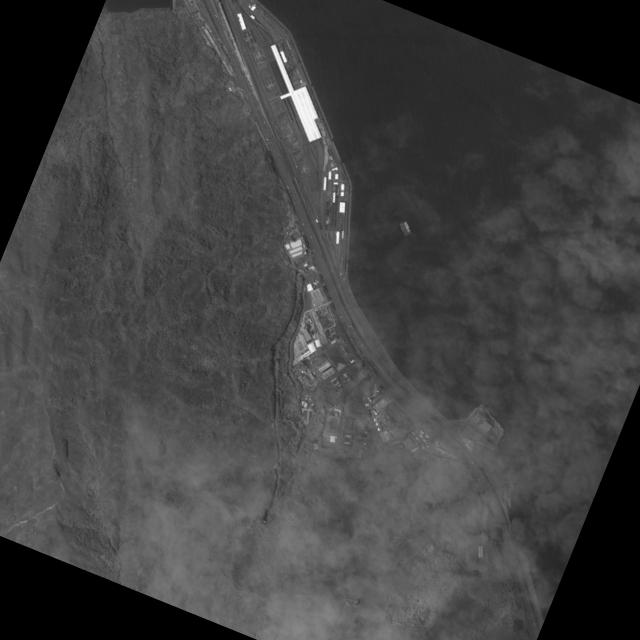ship: (401, 220, 410, 234), (398, 222, 407, 235), (547, 416, 549, 418), (575, 411, 577, 412)
storage-tank: (312, 437, 318, 444), (311, 443, 316, 449), (375, 426, 380, 431), (374, 421, 379, 426), (372, 417, 376, 422), (323, 445, 327, 449), (319, 444, 323, 448)
